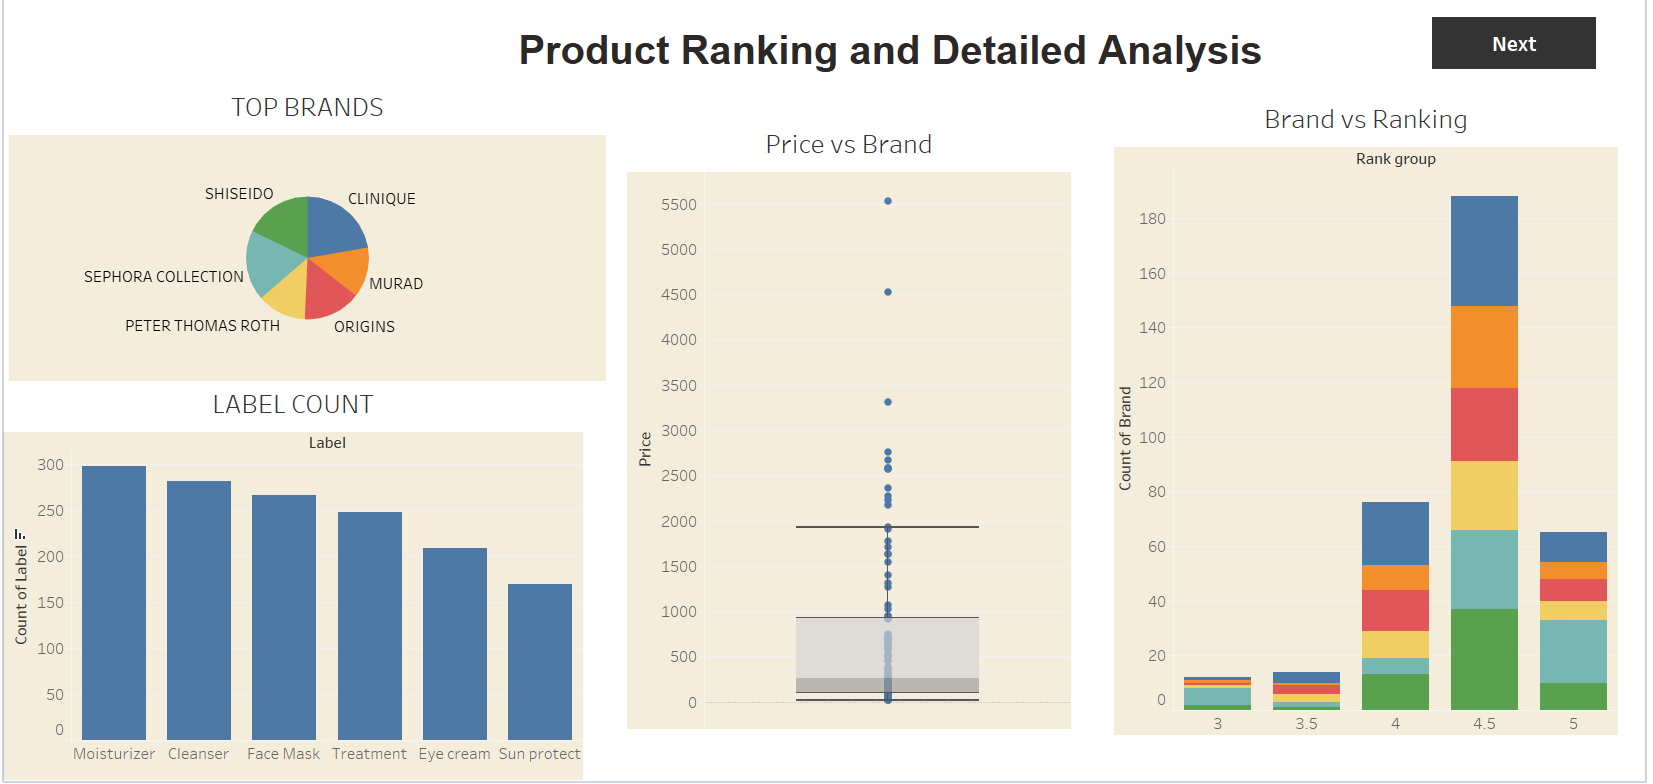

The dashboard page shown, as its layout file describes it:
{"tool":"tableau","page":{"name":"Product Ranking and Detailed Analysis","canvas":[1000,1000],"units":"permille","ordinal":0},"visuals":[{"type":"dashboard-object","box":[866.6,36.2,99,64.9]},{"type":"worksheet","title":"Top Brands","mark":"Pie","box":[7.9,121.1,360.3,369.5]},{"type":"worksheet","title":"Brand vs Ranking","mark":"Automatic","rows":["Brand"],"cols":["Calculation_603763851071139846"],"box":[674.7,136.1,304.2,796.5]},{"type":"worksheet","title":"Price vs Brand","mark":"Circle","rows":["Price"],"box":[380.8,167.3,267.9,757.8]},{"type":"worksheet","title":"Label Count","mark":"Automatic","rows":["Label"],"cols":["Label"],"box":[4.2,491.9,350,496.9]}]}

Visuals, with their boxes on the dashboard's canvas, which has no fixed pixel size, in thousandths of its width and height (x1, y1, x2, y2). These are canvas units, not pixel positions in the 1653x784 screenshot, which may show the page scaled, cropped or inside an application window:
dashboard-object: 867,36,966,101
"Top Brands" worksheet (Pie marks): 8,121,368,491
"Brand vs Ranking" worksheet: 675,136,979,933
"Price vs Brand" worksheet (Circle marks): 381,167,649,925
"Label Count" worksheet: 4,492,354,989
